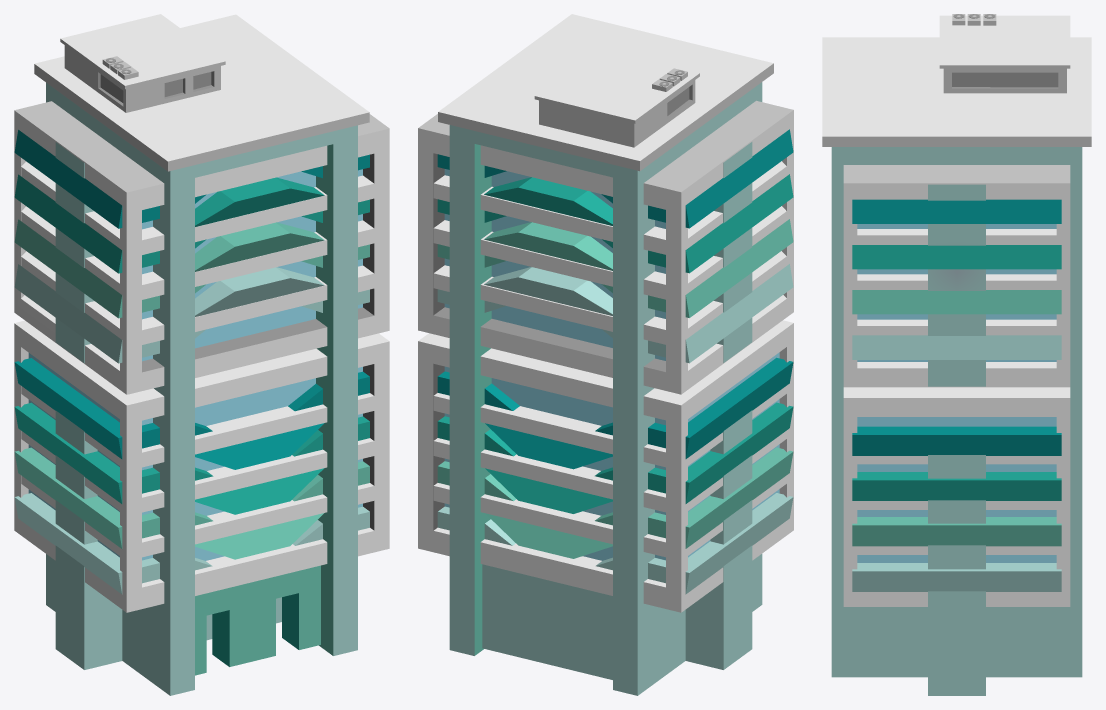
The model's file is building_2_2_2_5.glb.
3 views of the same model, side by side, from view 1: azimuth 30°, elevation 25°; view 2: azimuth 150°, elevation 25°; view 3: azimuth 270°, elevation 25° (orthographic).
Parts seen in each view (by area): view 1: building_1_2_2_14; view 2: building_1_2_2_14; view 3: building_1_2_2_14.
Part boxes in pixels (x1,y1,x2,y2): building_1_2_2_14: (14,14,389,695); building_1_2_2_14: (418,14,793,695); building_1_2_2_14: (822,14,1091,695).
Size of the model in its own units: 27.64 by 55.91 by 23.63.
1 material, 1 textured.
